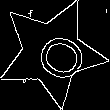O_NW: (19, 22, 85, 83)
